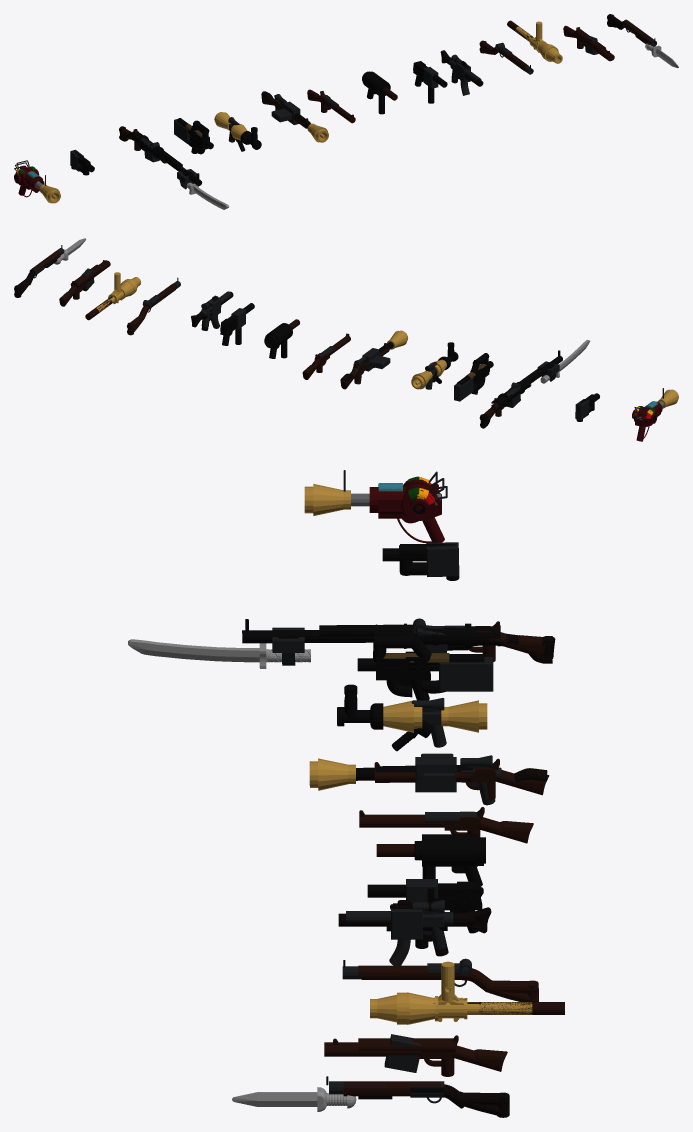
The model's file is Some Custom Weapons I've made.dae.
3 views of the same model, one above another, from view 1: azimuth 30°, elevation 25°; view 2: azimuth 150°, elevation 25°; view 3: azimuth 270°, elevation 25° (orthographic). The views are drawn at different scales.
Visible parts, largest first — view 1: Part.41, Part.136, Part.124, Part.75; view 2: Part.41, Part.136, Part.9, Part.124; view 3: Part.41, Part.124, Part.136, Part.73, Part.95, Part.29, Part.109, Part.9, Part.28, Part.6, Part.44, Part.97 (+14 smaller).
Part boxes in pixels (x1,y1,x2,y2): Part.41: (307,89,355,123); Part.136: (14,165,44,193); Part.124: (179,181,229,209); Part.75: (240,127,261,149); Part.41: (302,333,350,379); Part.136: (632,401,662,437); Part.9: (220,316,237,345); Part.124: (540,340,590,383); Part.41: (359,807,533,843); Part.124: (128,639,310,668); Part.136: (369,484,441,538); Part.73: (232,1087,356,1111); Part.95: (360,651,430,700); Part.29: (333,1035,507,1076); Part.109: (403,623,500,648); Part.9: (427,881,483,933); Part.28: (435,996,532,1021); Part.6: (338,900,491,956); Part.44: (374,758,549,800); Part.97: (242,630,375,643).
Bounding box in the file's own units: 352 × 25.6 × 107.
